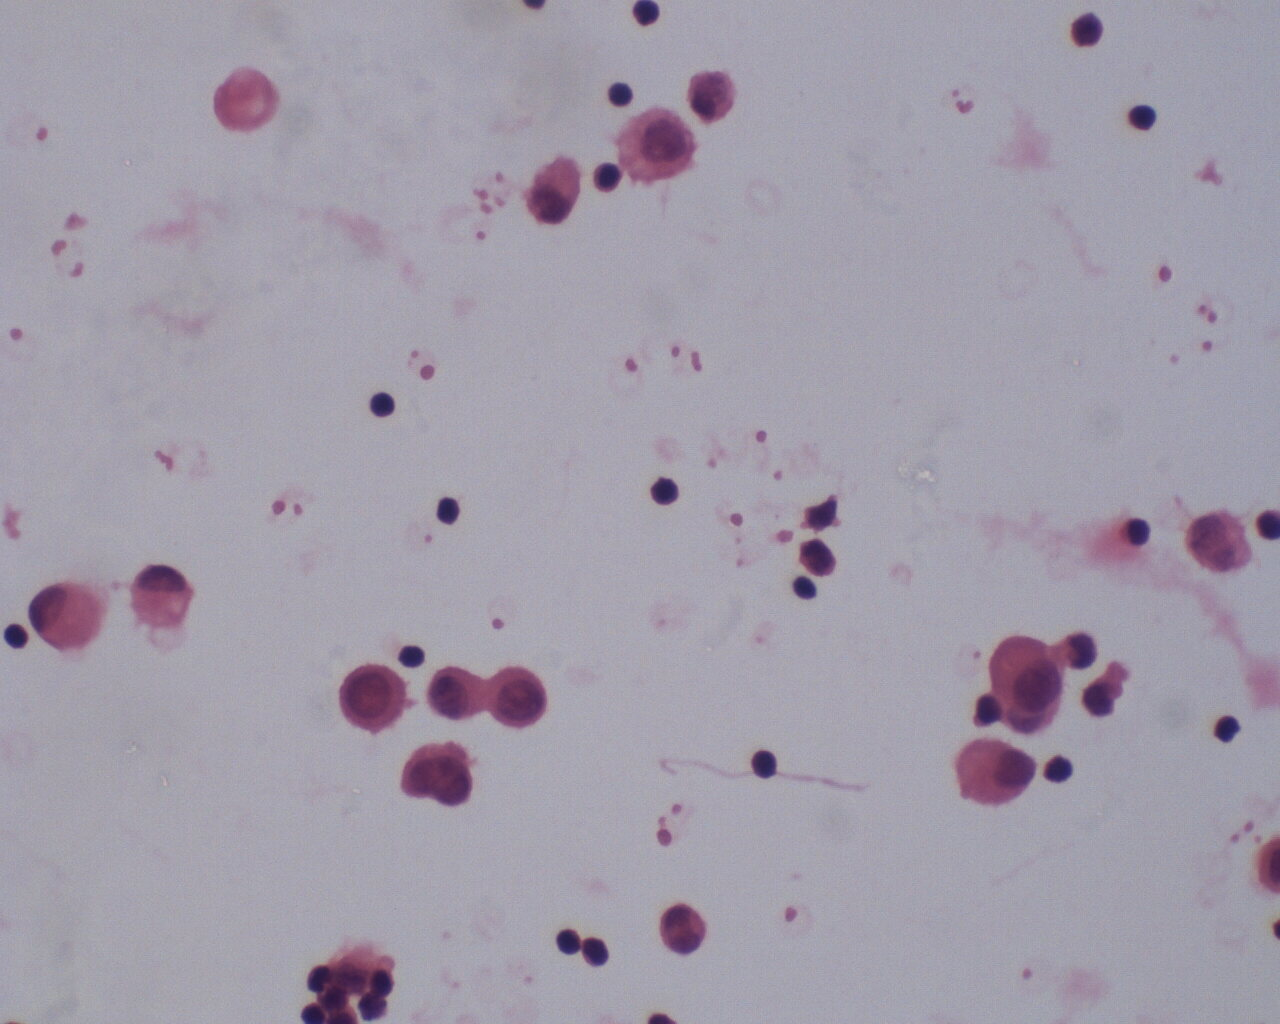ab: (399, 739, 478, 813), (338, 664, 413, 739), (488, 664, 555, 734), (425, 662, 489, 723)
histo: (26, 575, 109, 654), (127, 560, 197, 634)
lymph: (429, 490, 470, 528), (1122, 98, 1163, 134), (548, 926, 587, 960), (368, 387, 399, 428), (740, 746, 778, 779), (645, 474, 680, 507)
meso: (990, 630, 1066, 738), (949, 734, 1043, 810), (616, 104, 700, 187), (683, 65, 739, 125)
